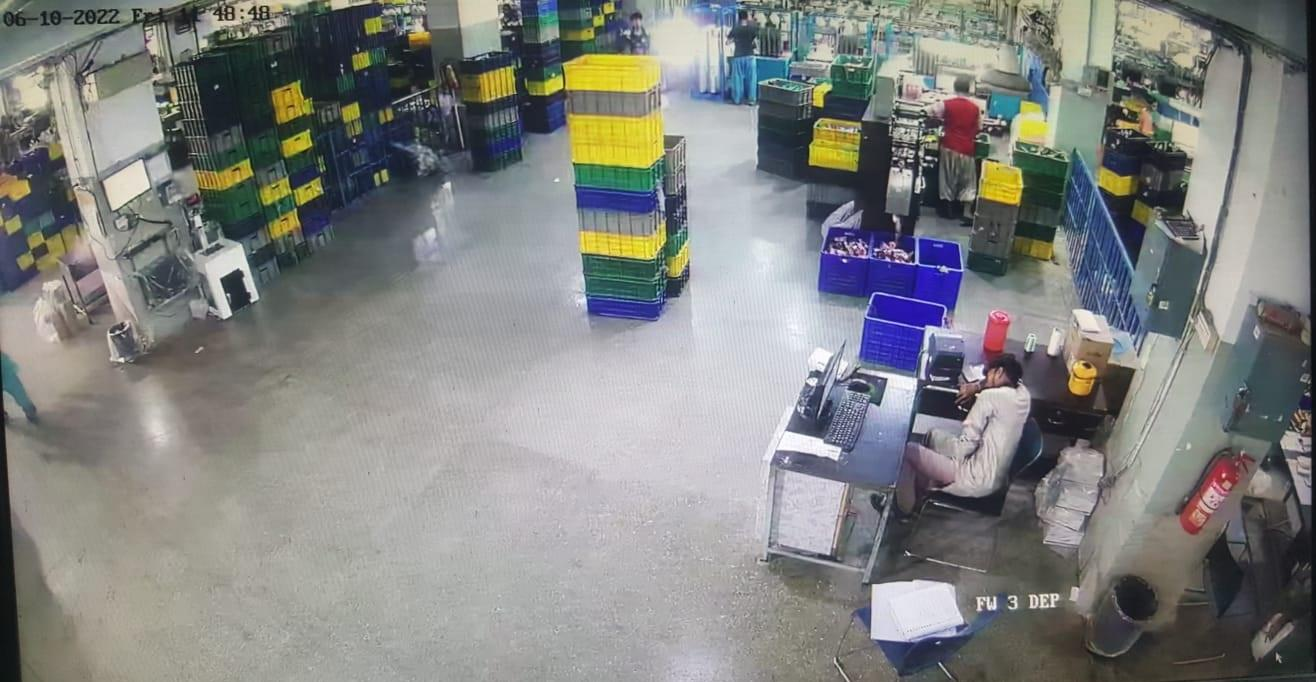person: (897, 355, 1036, 512), (934, 75, 986, 227), (725, 3, 766, 107)
